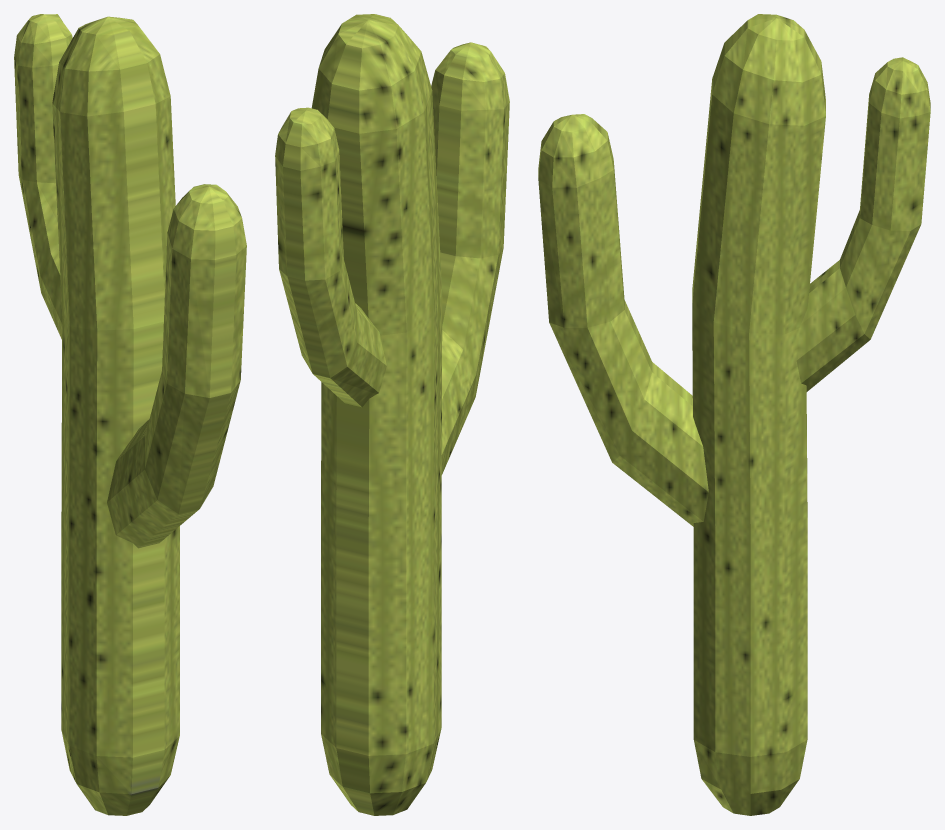
File: Cactus.glb
3 views of the same model, side by side, from view 1: azimuth 30°, elevation 25°; view 2: azimuth 150°, elevation 25°; view 3: azimuth 270°, elevation 25° (orthographic).
Parts seen in each view (by area): view 1: Cactus; view 2: Cactus; view 3: Cactus.
Part boxes in pixels (x1=…): Cactus: x1=14, y1=14, x2=246, y2=815; Cactus: x1=275, y1=14, x2=509, y2=815; Cactus: x1=538, y1=14, x2=930, y2=815.
Size of the model in its own units: 16.41 by 120 by 53.79.
1 material, 1 textured.
